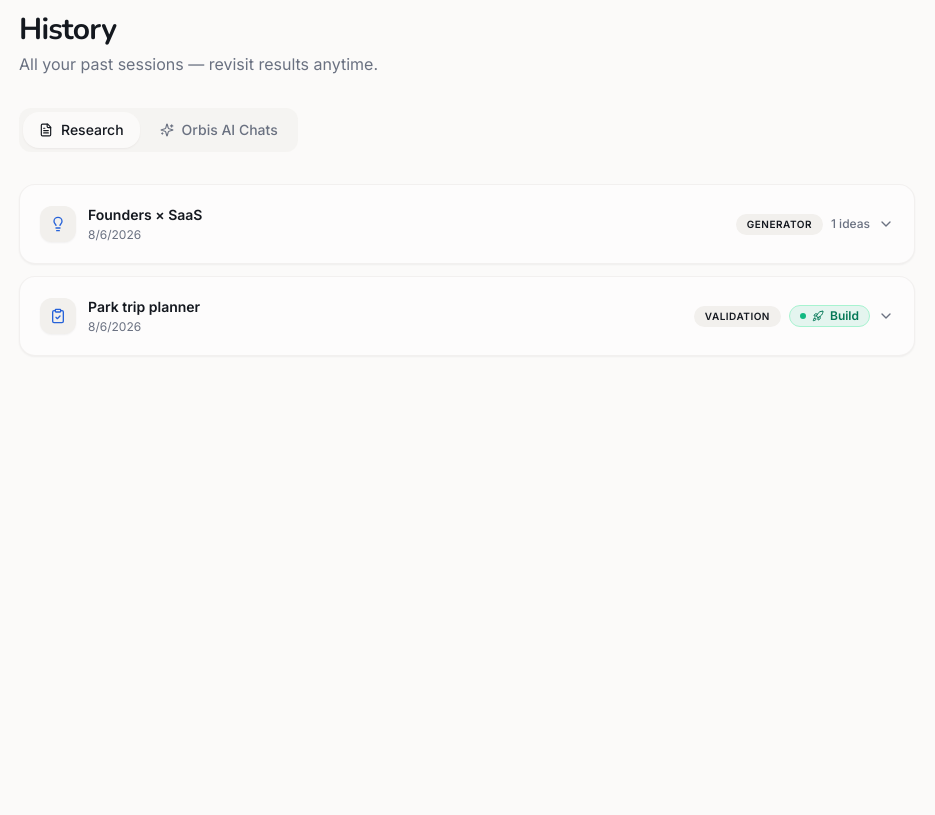
Test: Reports NextStepCard › shows View saved ideas when backlog has the top idea's generated source id
The image size is (935, 815).
Click the button with aria-label "generator: founders × saas".
click(58, 224)  # box x1=20 y1=185 x2=914 y2=263
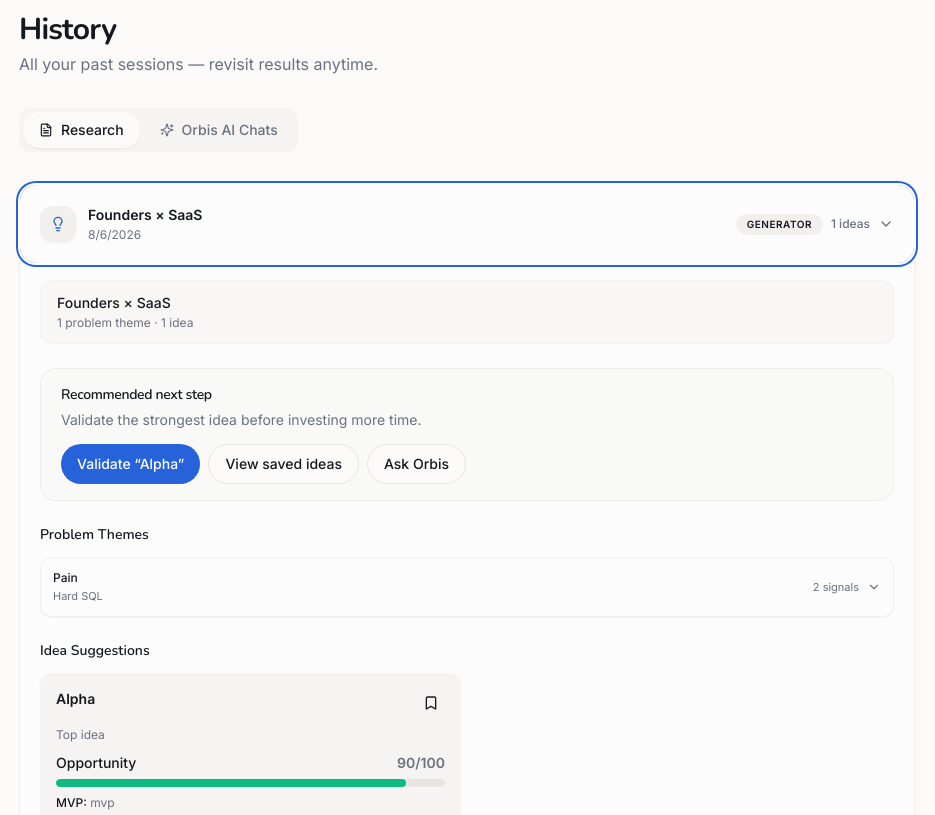
Expected: the button "View saved ideas" is shown, x1=208 y1=444 x2=359 y2=484
